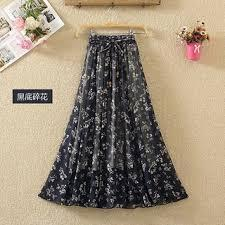skirt: (35, 34, 188, 208)
